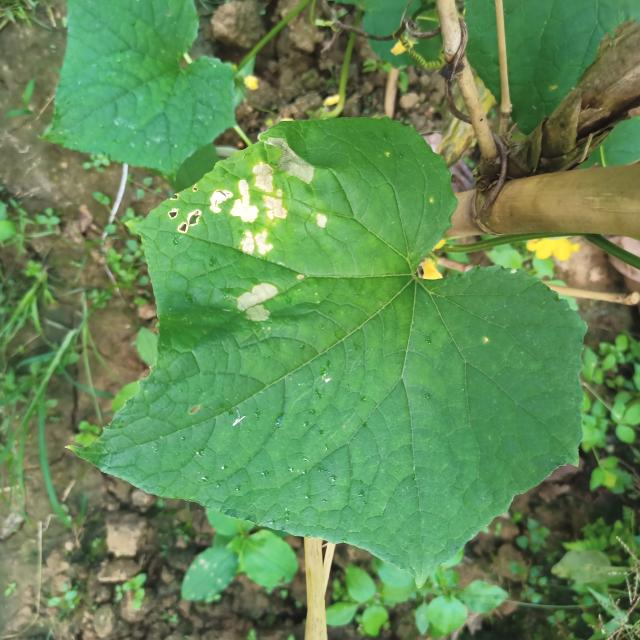disease_cucumber: (168, 134, 330, 262), (234, 277, 280, 324)
